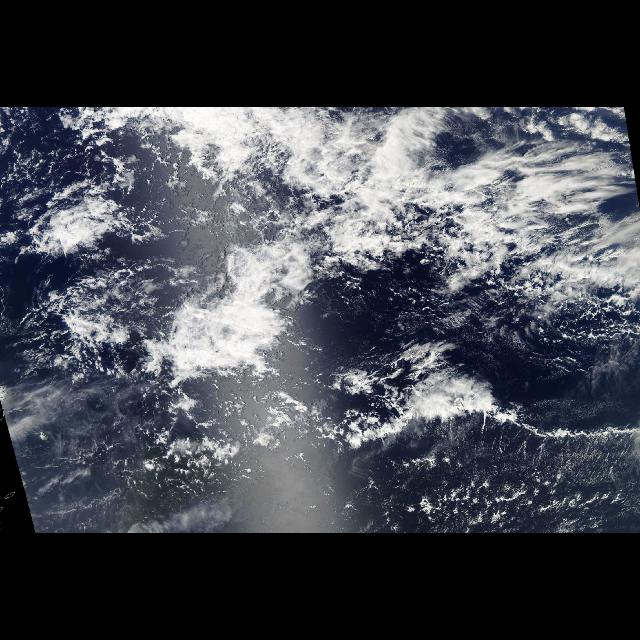Fish: (264, 328, 640, 507), (421, 204, 631, 316)
Sugar: (368, 453, 640, 532)
